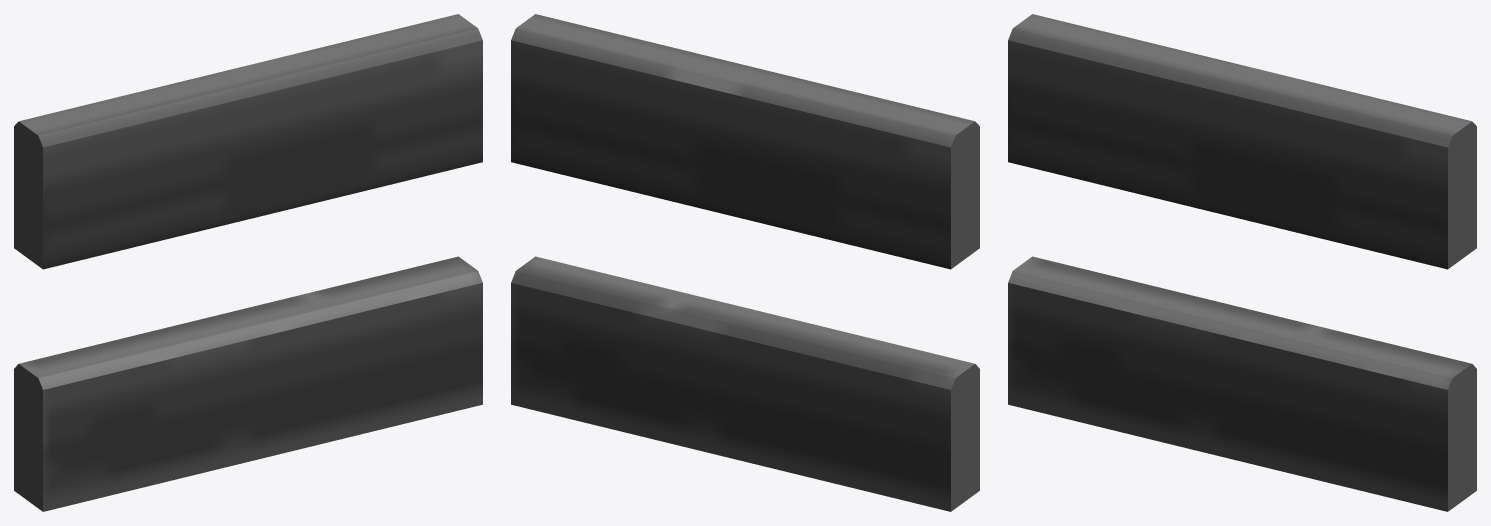
Rendered from fence_0378x07.obj.
3 renders of one model, left to right at view 1: azimuth 30°, elevation 25°; view 2: azimuth 150°, elevation 25°; view 3: azimuth 330°, elevation 25°, orthographic.
Visible parts, largest first — view 1: fenceboard_lightwood.001; view 2: fenceboard_lightwood.001; view 3: fenceboard_lightwood.001.
Part boxes in pixels (box(x1,y1,x2,y2)): fenceboard_lightwood.001: box(14, 14, 482, 511); fenceboard_lightwood.001: box(511, 14, 979, 511); fenceboard_lightwood.001: box(1008, 14, 1476, 511).
Bounding box in the file's own units: 2.23 × 1.81 × 0.2551.
